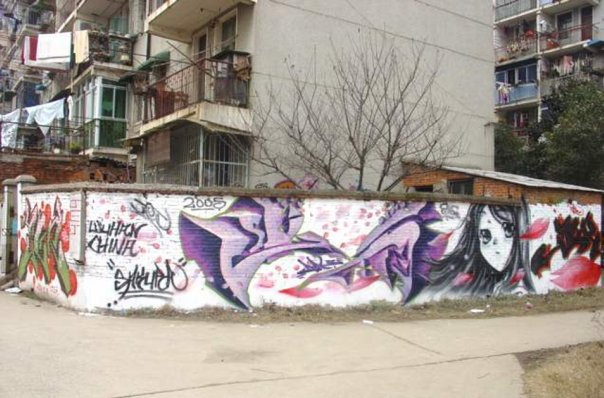graffity: (174, 197, 451, 312), (425, 200, 540, 304), (7, 187, 81, 304), (521, 203, 604, 304), (103, 257, 192, 310), (84, 204, 143, 264), (130, 195, 172, 236)
